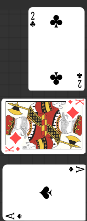2C: (75, 72, 83, 89)
AC: (67, 166, 84, 175), (29, 11, 36, 29)
